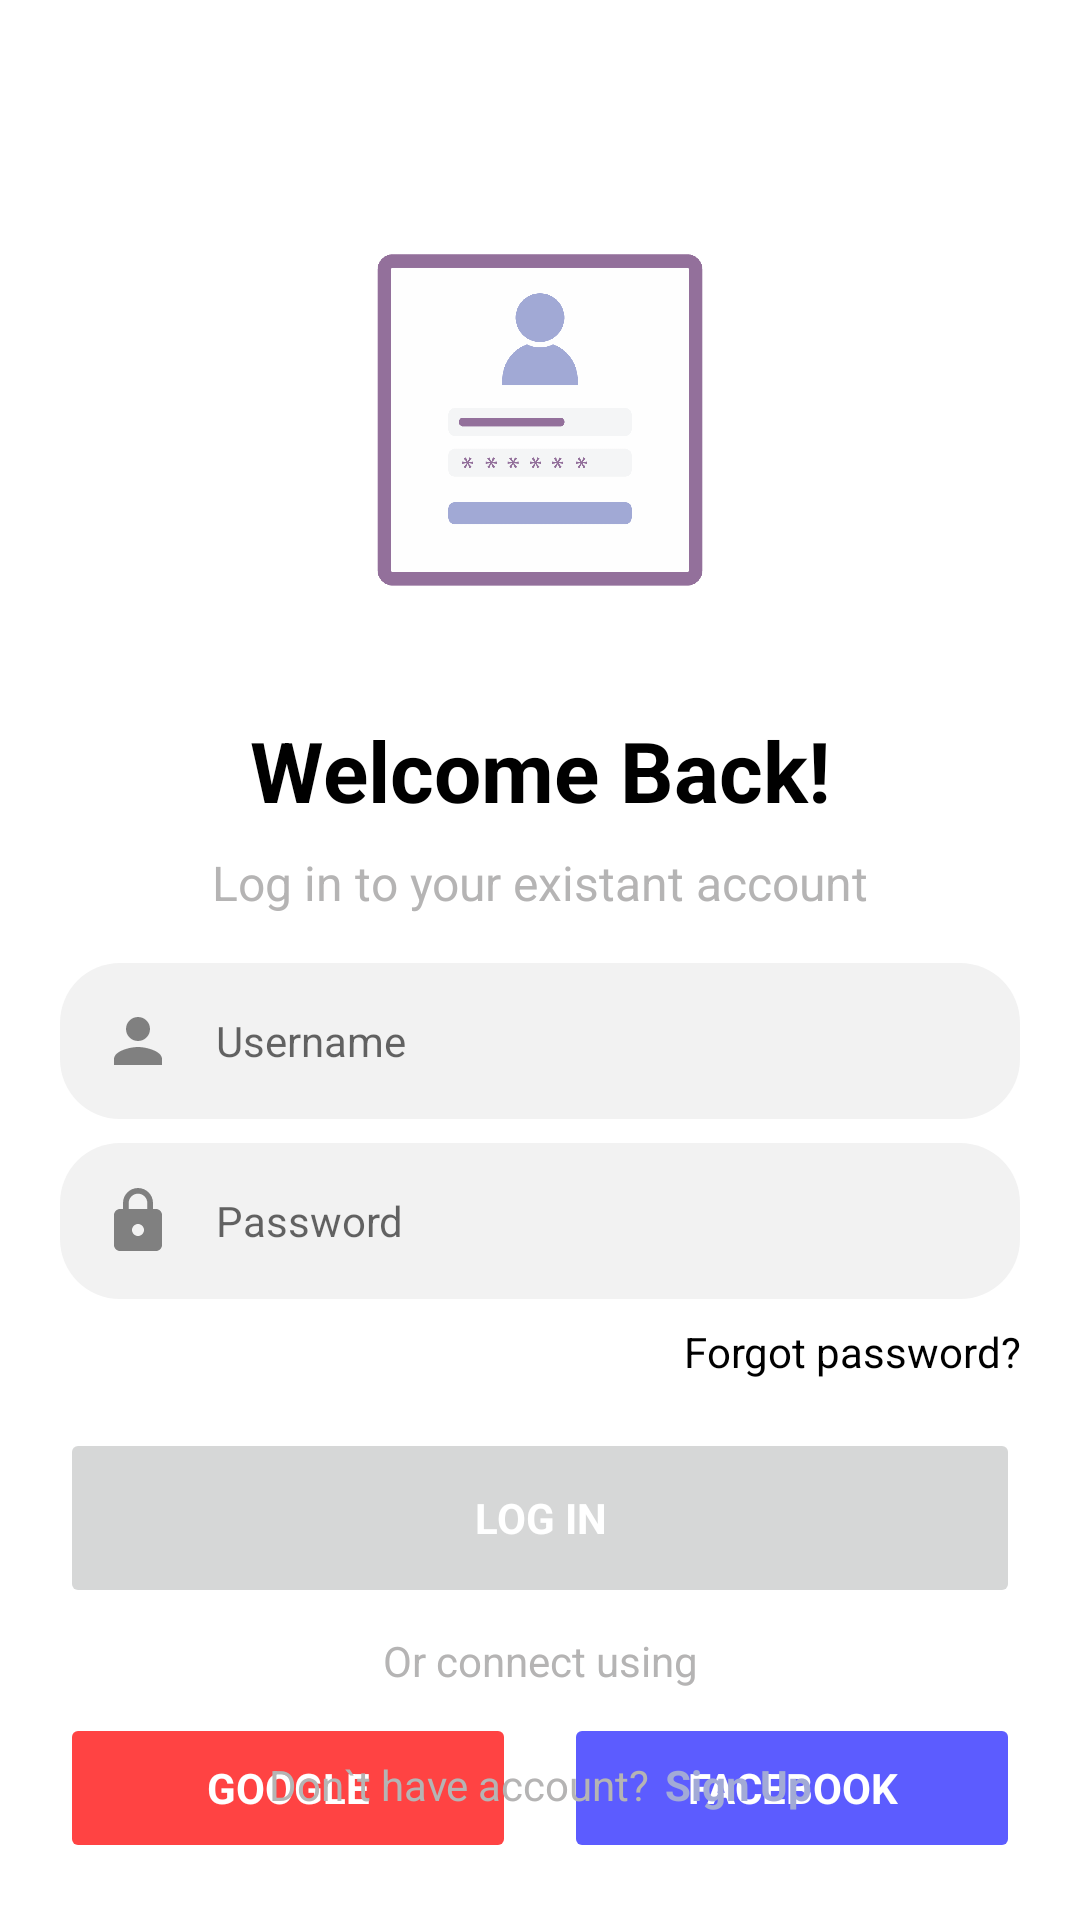

Icon bounding boxes for this 1080 x 1920 phone screenshot, format (left=x1, top=y1, right=x2, bottom=y2):
login: (left=377, top=254, right=703, bottom=586)
